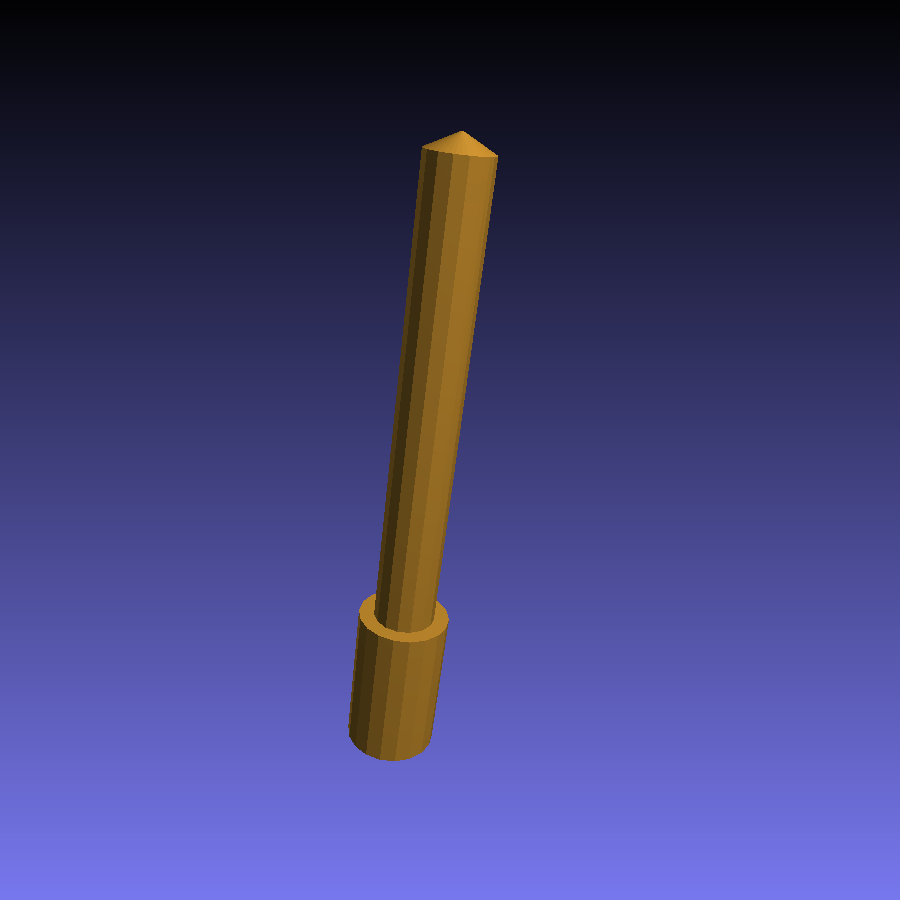cargo_g: (347, 130, 501, 760)
